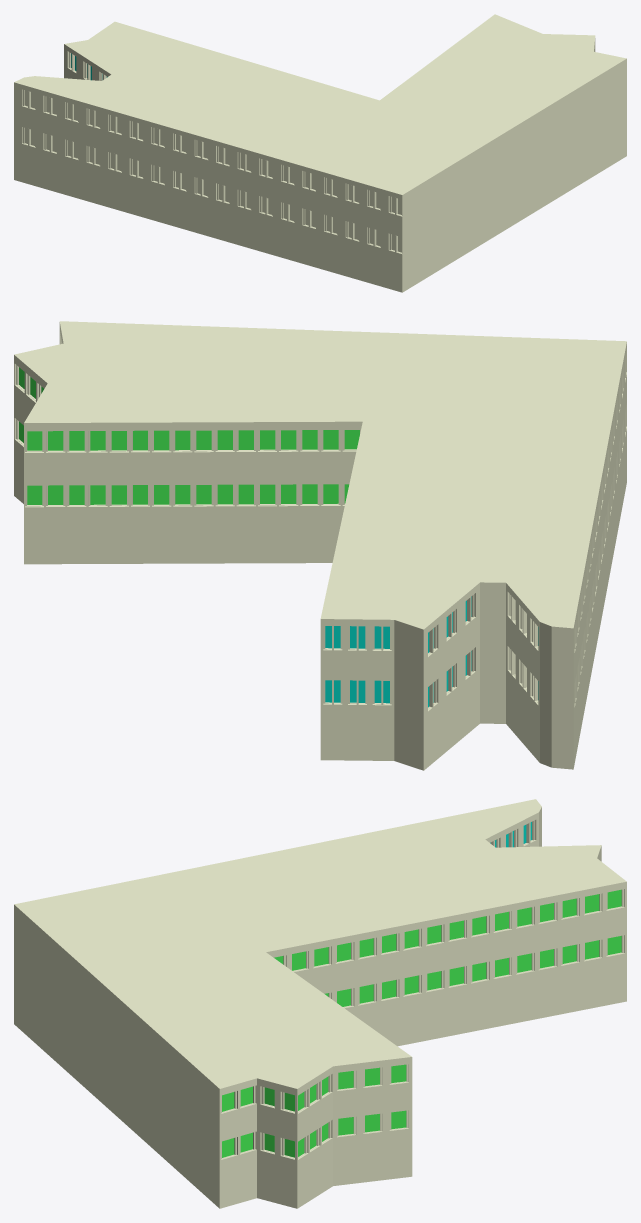
The model's file is Jane Foss Russell Building.fbx.
3 renders of one model, top to bottom at view 1: azimuth 30°, elevation 25°; view 2: azimuth 150°, elevation 25°; view 3: azimuth 270°, elevation 25°, orthographic. The views are drawn at different scales.
Visible parts, largest first — view 1: Jane Foss Russell Building; view 2: Jane Foss Russell Building; view 3: Jane Foss Russell Building.
Part boxes in pixels (<box>): Jane Foss Russell Building: <box>14,14,626,292</box>; Jane Foss Russell Building: <box>14,321,626,770</box>; Jane Foss Russell Building: <box>14,799,626,1208</box>.
Bounding box in the file's own units: 7177 × 1383 × 6413.
